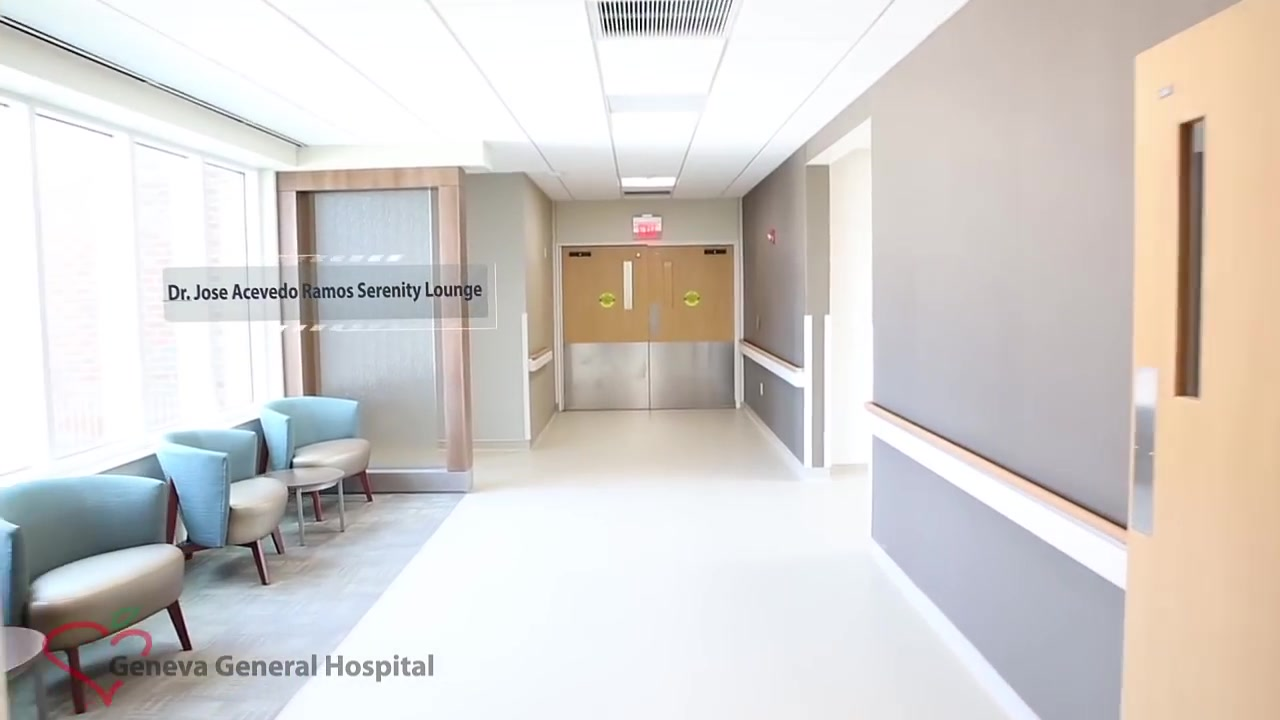hallway_assist_bar: (865, 403, 1127, 590), (731, 341, 805, 388), (529, 346, 557, 376)
sofa: (1, 472, 190, 720), (154, 426, 295, 585), (261, 394, 373, 507)
table: (257, 467, 347, 547), (1, 626, 50, 720)
